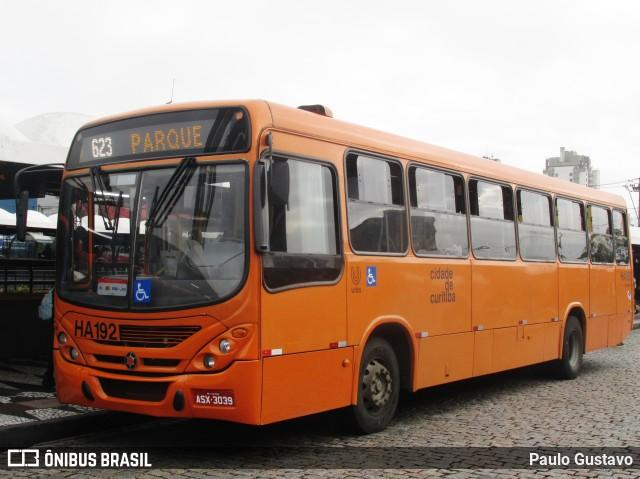PARQUE: (123, 120, 208, 157)
